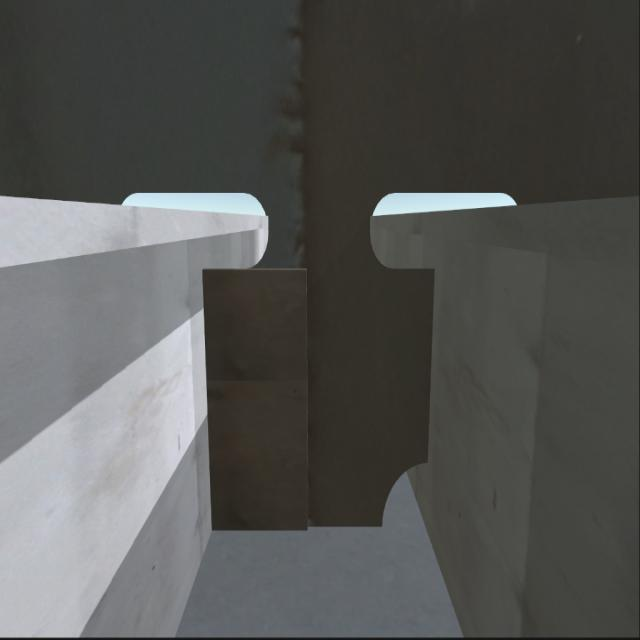fillet_hole: (382, 460, 429, 522)
fillet_yong_jeop_jang: (210, 520, 388, 543)
longi_yong_jeop_jang: (419, 265, 439, 465), (202, 267, 215, 529)
plate_CP01: (204, 269, 312, 535)
